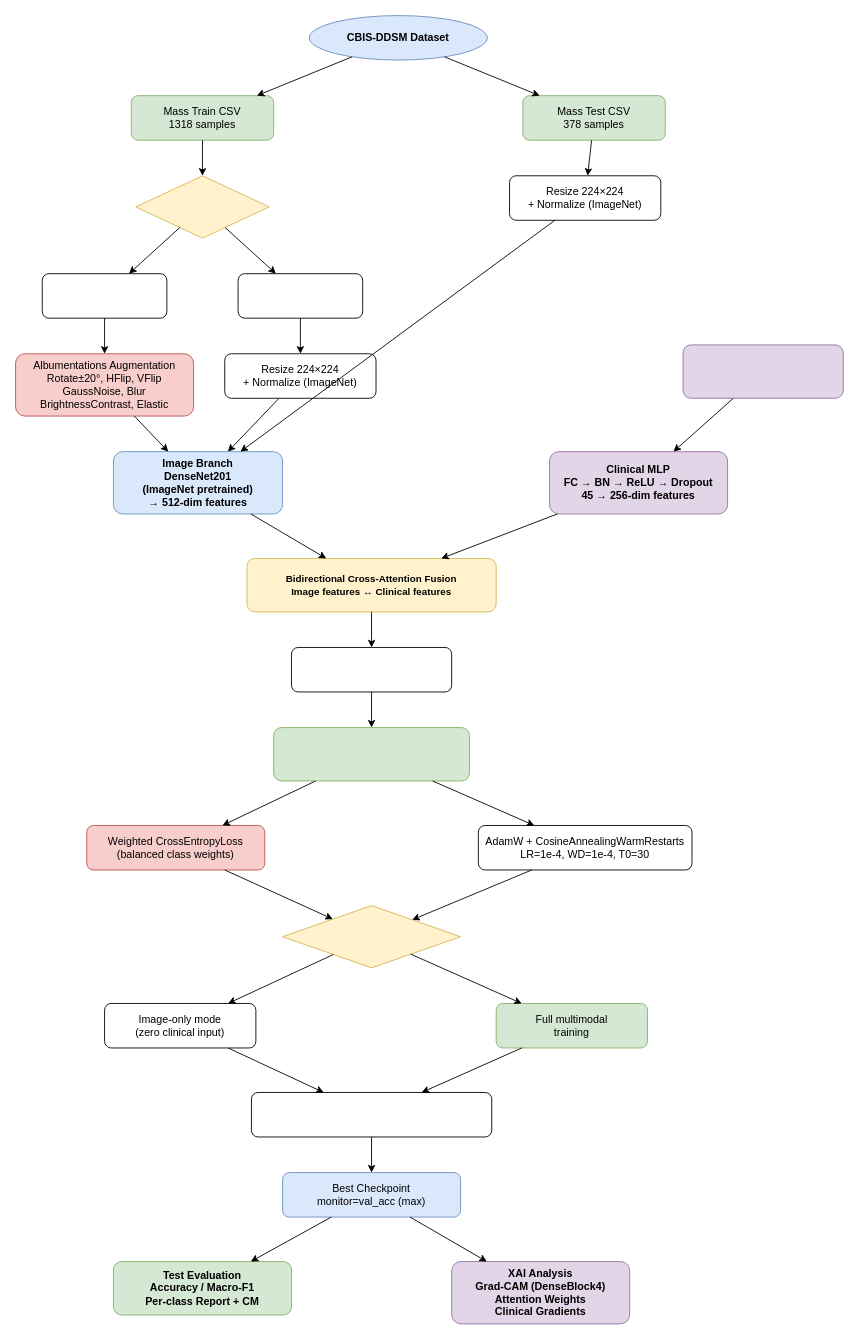
Some shapes in this 859 by 1339 pixel diagram are drawn without their labels. Here are the shapes that lost their labels. From the top down, the box of each, then its label:
(135, 175, 269, 238): Train/Val Split 85% / 15% stratified
(41, 273, 167, 318): Train Set ~1120 samples
(237, 273, 363, 318): Val Set ~198 samples
(682, 344, 843, 398): mass_train_encoded.csv 45 clinical features (excl. pathology_*)
(291, 647, 452, 692): Fusion MLP 256-dim, Dropout=0.5
(273, 727, 469, 781): 3-class Softmax MALIGNANT | BENIGN BENIGN_WITHOUT_CALLBACK
(282, 905, 461, 968): Epoch < 50? Warmup phase
(251, 1092, 492, 1137): WarmupAware EarlyStopping monitor=val_loss, patience=20
